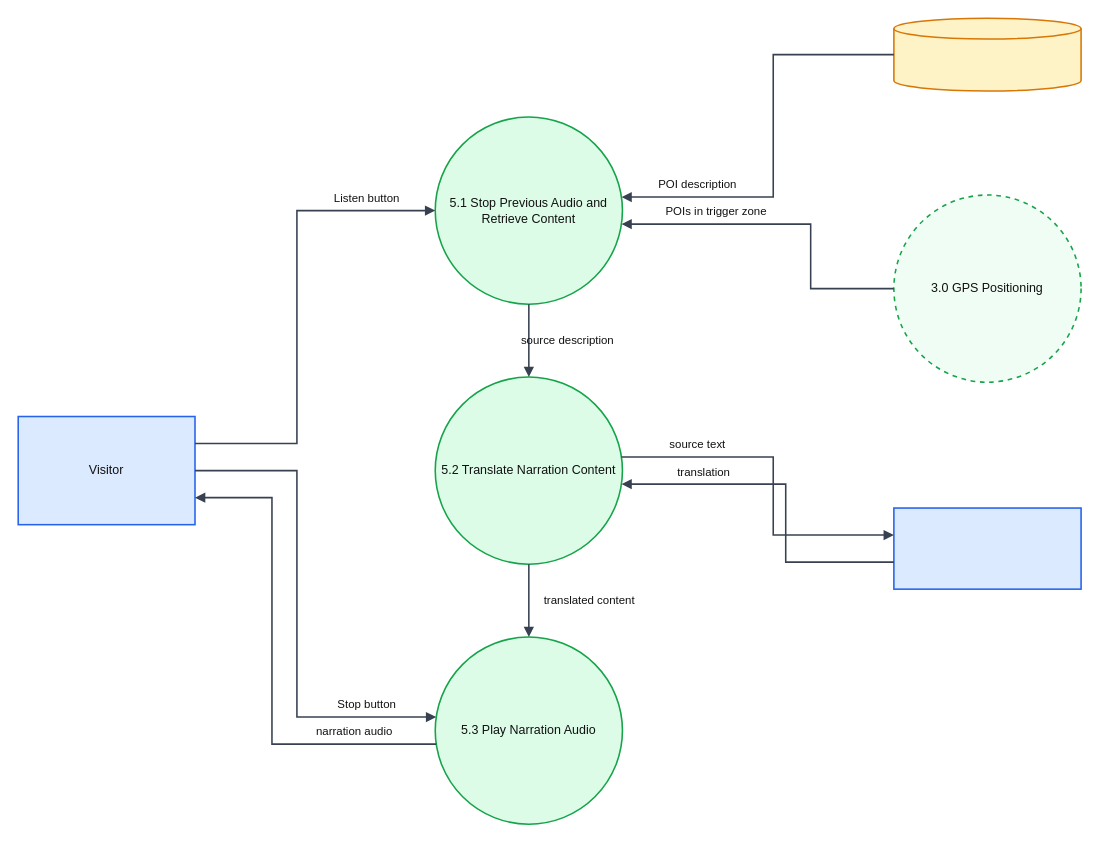
Some shapes in this 1100 by 843 pixel diagram are drawn without their labels. Each missing label, with the centre of its shape:
"D1 POI" belongs at point 987,54.
"Google Gemini" belongs at point 987,548.
